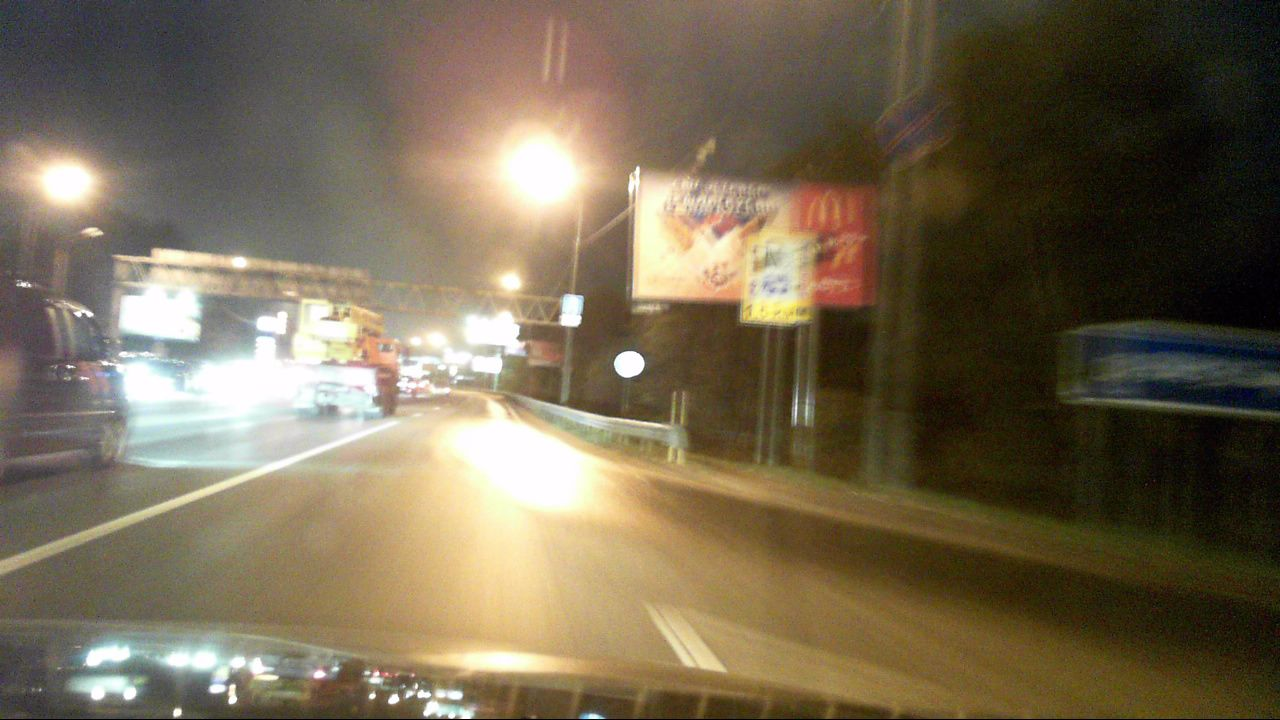No Parking: (874, 99, 934, 162)
